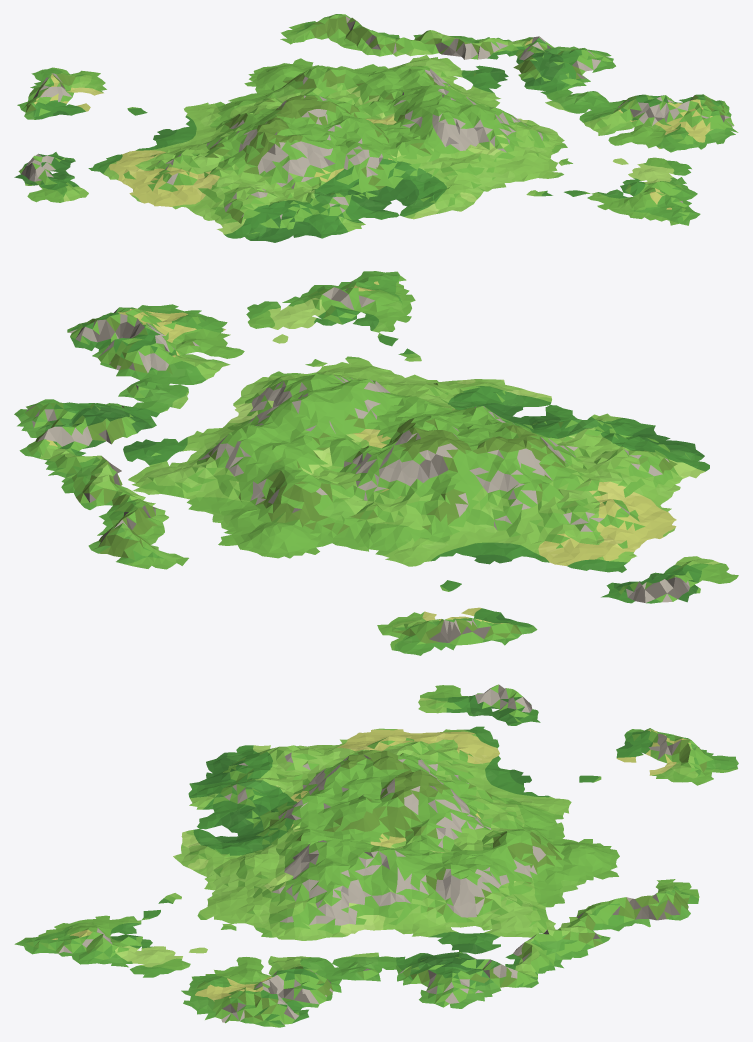
Rendered from Isl-hilly4-Relief.fbx.
3 views of the same model, one above another, from view 1: azimuth 30°, elevation 25°; view 2: azimuth 150°, elevation 25°; view 3: azimuth 270°, elevation 25° (orthographic). The views are drawn at different scales.
Parts seen in each view (by area): view 1: Isl-hilly4-Relief-c21, Isl-hilly4-Relief-c22, Isl-hilly4-Relief-c12, Isl-hilly4-Relief-c11, Isl-hilly4-Relief-c31; view 2: Isl-hilly4-Relief-c22, Isl-hilly4-Relief-c12, Isl-hilly4-Relief-c21, Isl-hilly4-Relief-c11, Isl-hilly4-Relief-c31; view 3: Isl-hilly4-Relief-c22, Isl-hilly4-Relief-c21, Isl-hilly4-Relief-c12, Isl-hilly4-Relief-c11, Isl-hilly4-Relief-c31.
Part boxes in pixels (x1,y1,x2,y2): Isl-hilly4-Relief-c21: (334,91,729,225); Isl-hilly4-Relief-c22: (244,14,615,127); Isl-hilly4-Relief-c12: (14,67,333,204); Isl-hilly4-Relief-c11: (154,126,413,242); Isl-hilly4-Relief-c31: (679,94,738,136); Isl-hilly4-Relief-c22: (14,384,451,569); Isl-hilly4-Relief-c12: (346,426,738,655); Isl-hilly4-Relief-c21: (92,271,550,428); Isl-hilly4-Relief-c11: (452,396,709,521); Isl-hilly4-Relief-c31: (67,305,152,350); Isl-hilly4-Relief-c22: (362,785,699,1008); Isl-hilly4-Relief-c21: (14,794,366,1009); Isl-hilly4-Relief-c12: (362,684,738,832); Isl-hilly4-Relief-c11: (182,732,366,832); Isl-hilly4-Relief-c31: (196,989,308,1027).
Size of the model in its own units: 102 by 7.69 by 91.54.
